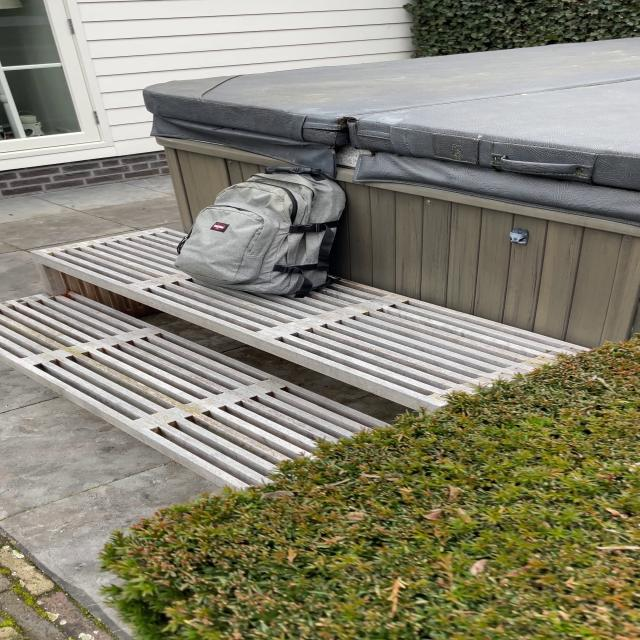backpack: (169, 162, 356, 296)
